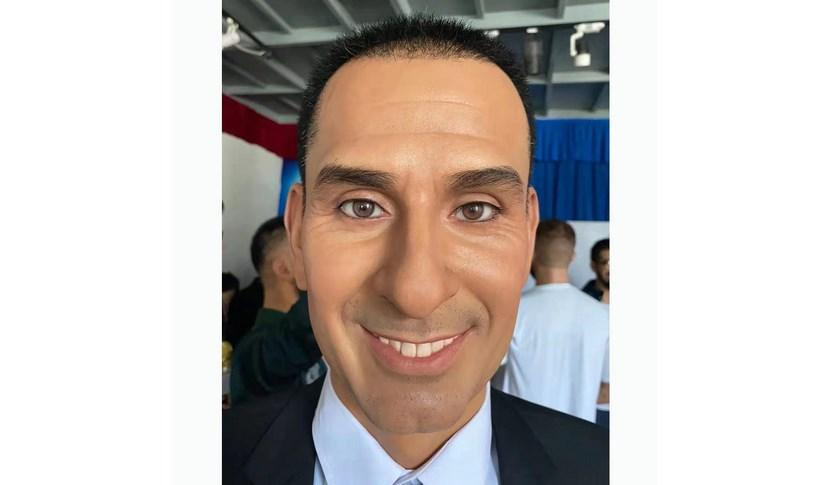no_mask: (299, 46, 532, 431)
